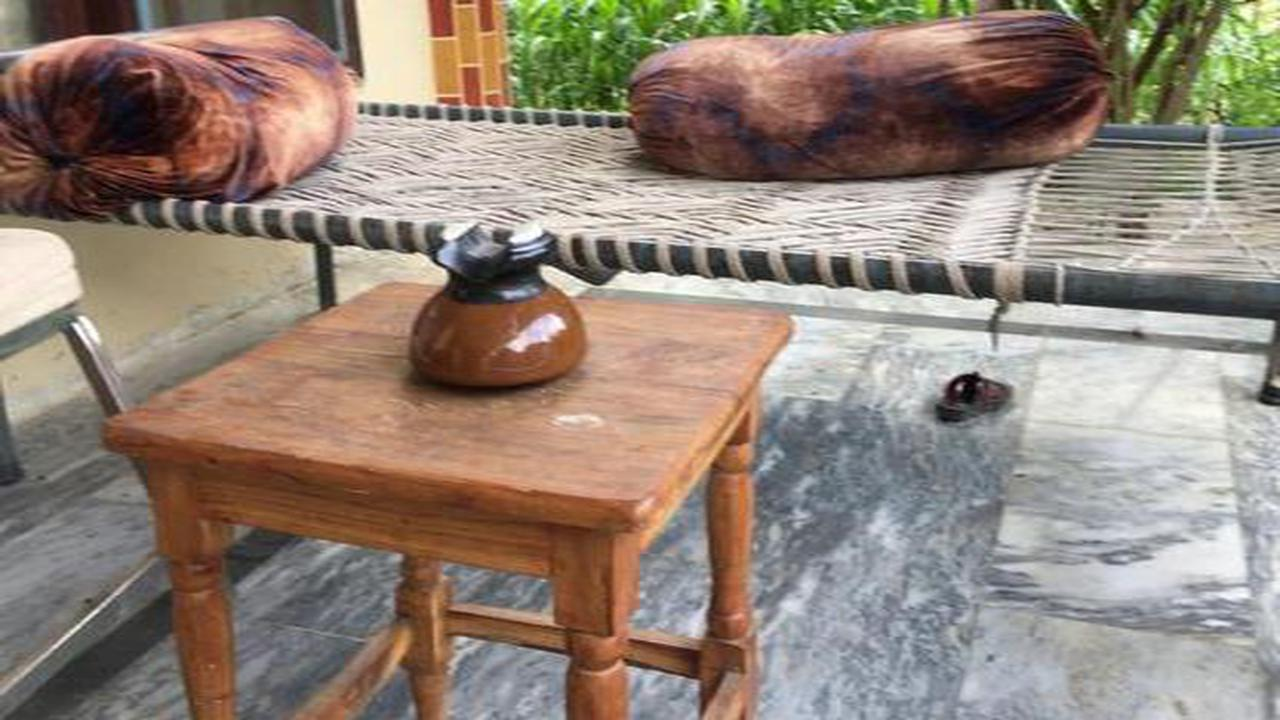insulator_pin: (382, 210, 616, 399)
